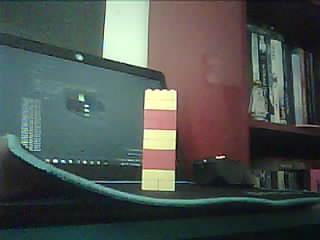lego: (141, 88, 177, 191)
